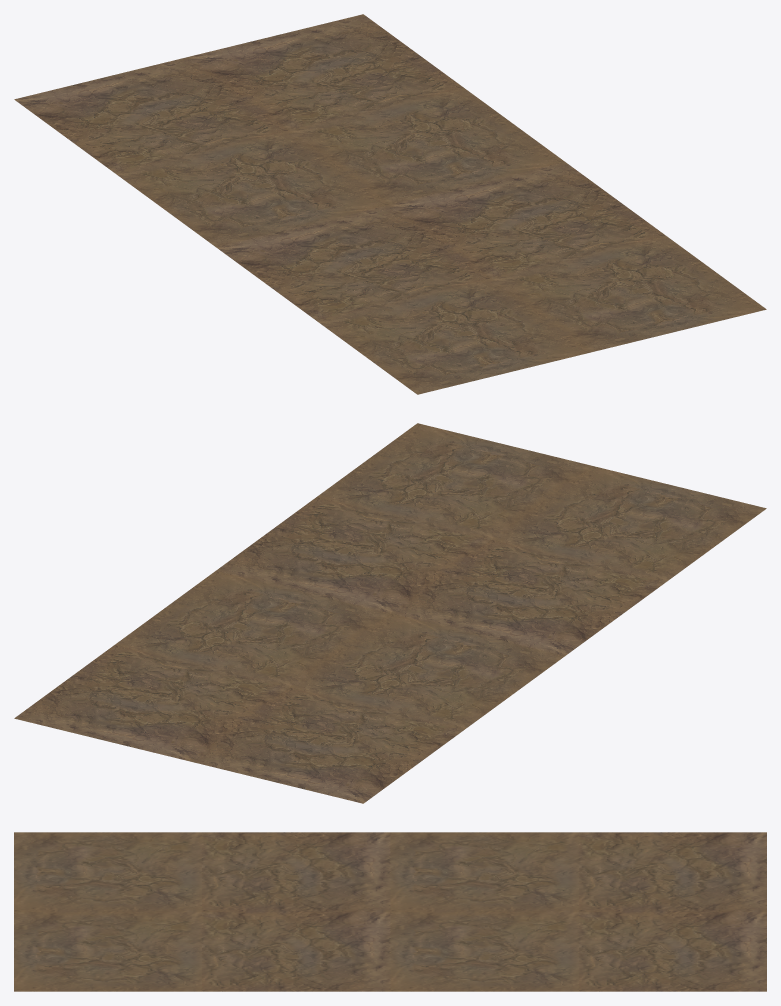
The model's file is floor.FBX.
3 renders of one model, top to bottom at view 1: azimuth 30°, elevation 25°; view 2: azimuth 150°, elevation 25°; view 3: azimuth 270°, elevation 25°, orthographic. The views are drawn at different scales.
Visible parts, largest first — view 1: floor; view 2: floor; view 3: floor.
Boxes of the visible parts, <box> form: floor: <box>14,14,766,394</box>; floor: <box>14,423,766,803</box>; floor: <box>14,832,766,991</box>.
Bounding box in the file's own units: 1144 × 0.000793 × 2288.
